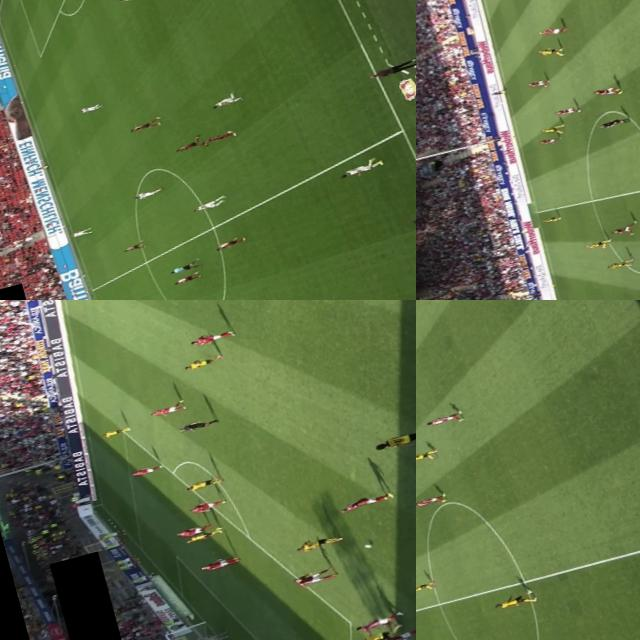ball: (361, 542, 374, 550)
player: (331, 153, 390, 180), (369, 424, 416, 452), (333, 493, 388, 515), (346, 612, 401, 634), (294, 532, 346, 555), (188, 326, 238, 349), (291, 566, 338, 588), (492, 590, 536, 612), (144, 400, 190, 420), (424, 408, 464, 430), (181, 353, 224, 372), (198, 126, 238, 145), (187, 197, 229, 215), (208, 234, 250, 252), (168, 523, 210, 541), (205, 91, 246, 109), (195, 557, 236, 575), (186, 498, 224, 516), (539, 120, 570, 142), (125, 461, 165, 478), (371, 625, 416, 640), (180, 528, 221, 544), (97, 424, 134, 440), (355, 627, 400, 640), (536, 22, 568, 39), (590, 83, 622, 100), (185, 476, 219, 492), (608, 222, 638, 240), (73, 100, 106, 116), (128, 187, 162, 202), (416, 492, 446, 509), (536, 44, 564, 62), (128, 118, 160, 132), (554, 104, 582, 120), (584, 237, 612, 253), (172, 139, 203, 153), (605, 258, 634, 272), (416, 449, 437, 467), (172, 272, 198, 286), (120, 241, 144, 255), (191, 632, 229, 640), (68, 226, 92, 238), (114, 0, 155, 7), (540, 213, 561, 225), (416, 581, 434, 595), (526, 78, 546, 90), (538, 136, 559, 146)
